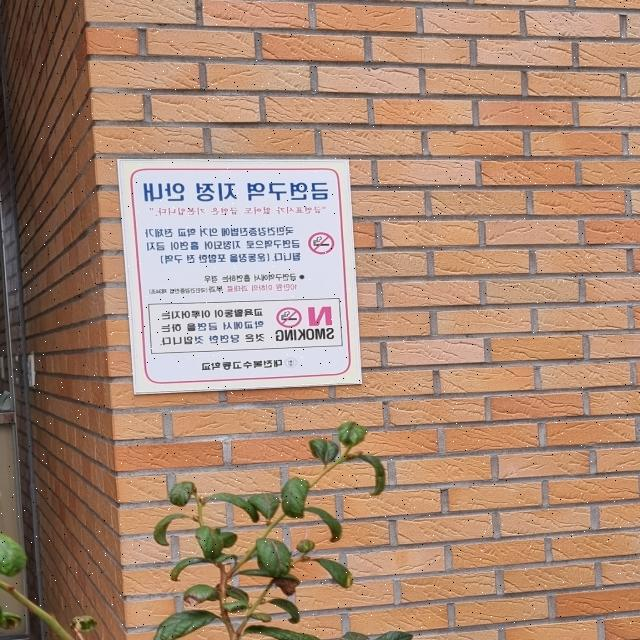logo: (283, 356, 299, 370)
